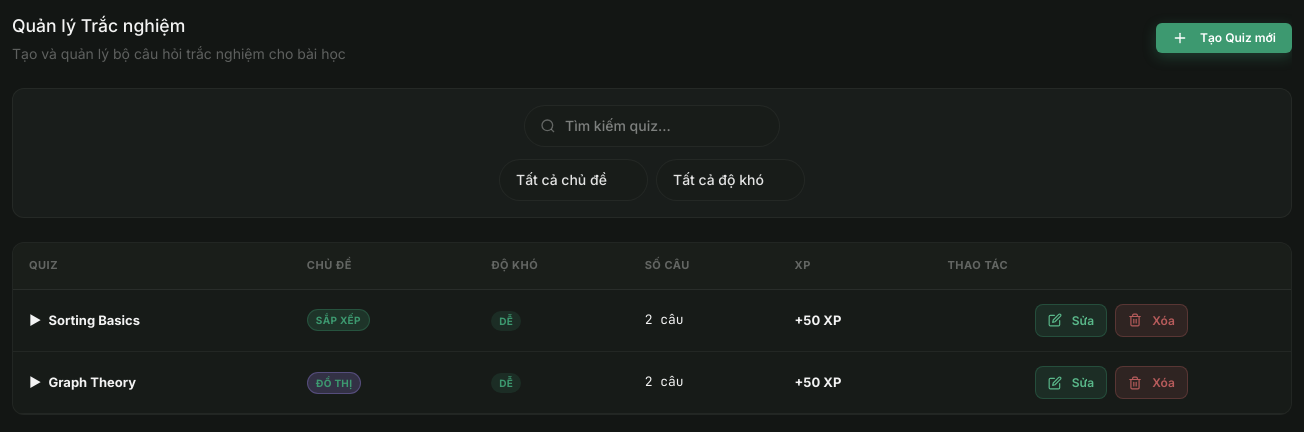
Scenario: QuizBuilderTab — Contract Spec (TC-040) › filter: chọn topic → chỉ render quiz cùng topic (TC-040)
This screenshot has width=1304, height=432.
Select "graph" in the 1st dropdown at (574, 180), box x1=499 y1=159 x2=648 y2=201
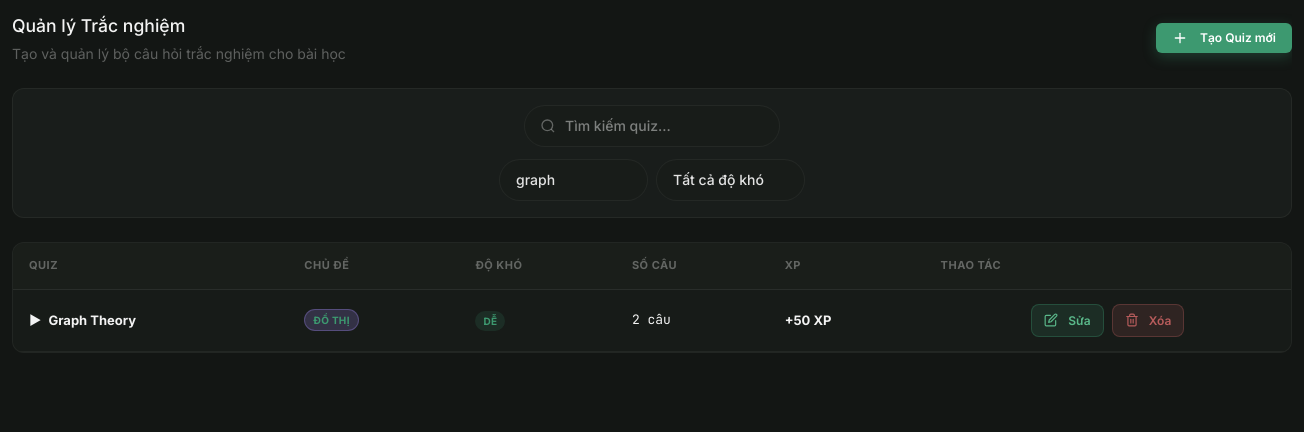
Expected: the text "Graph Theory" is shown, x1=45 y1=312 x2=136 y2=328
Expected: the text "Sorting Basics" is gone
